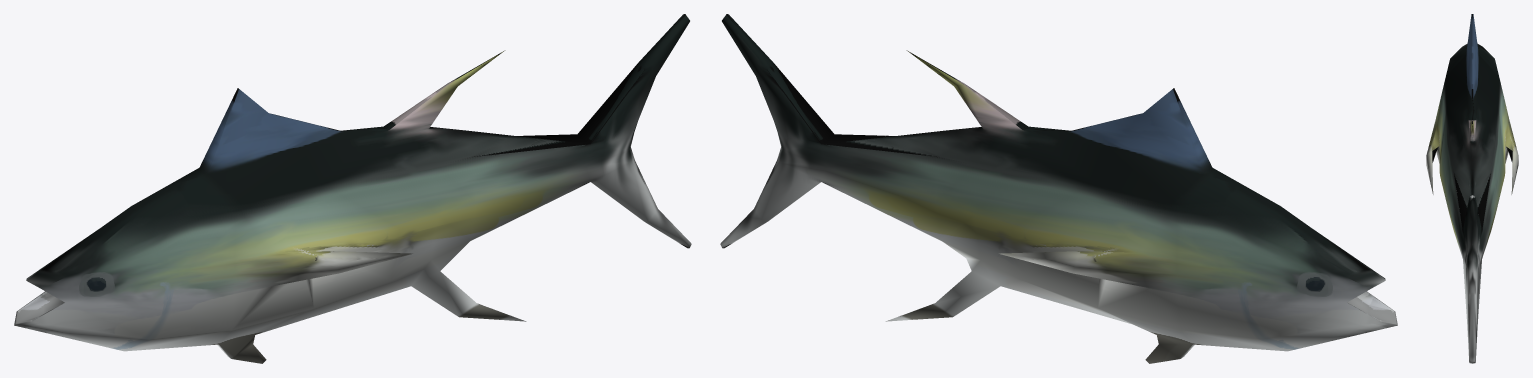
Rendered from Yellowfin Tuna.fbx.
3 views of the same model, side by side, from view 1: azimuth 30°, elevation 25°; view 2: azimuth 150°, elevation 25°; view 3: azimuth 270°, elevation 25° (orthographic). The views are drawn at different scales.
Parts seen in each view (by area): view 1: Cube; view 2: Cube; view 3: Cube.
Part boxes in pixels (x1=…): Cube: x1=14, y1=14, x2=691, y2=363; Cube: x1=720, y1=14, x2=1397, y2=363; Cube: x1=1426, y1=14, x2=1518, y2=363.
Bounding box in the file's own units: 494 × 212 × 81.48.
Materials: 1 (1 with a texture image).
